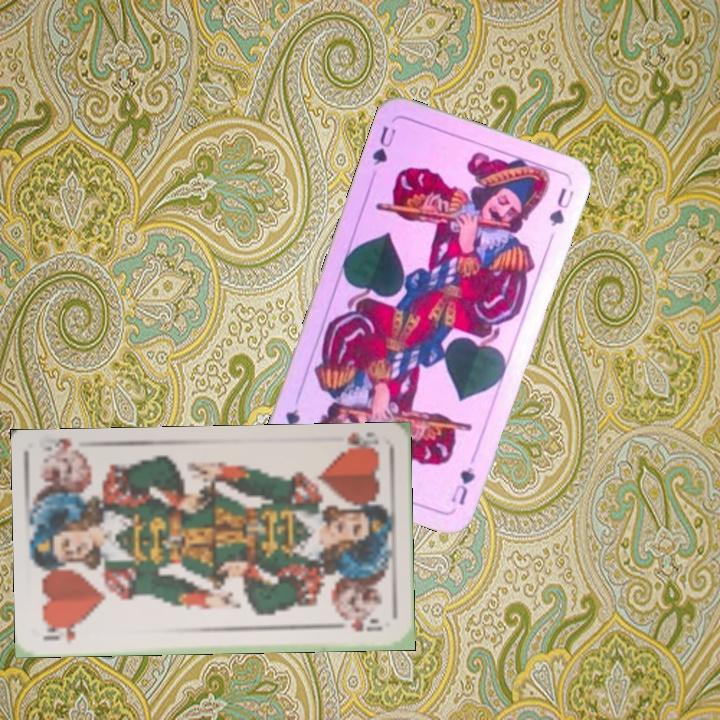GU: (368, 122, 399, 168), (447, 463, 478, 508)
HO: (331, 430, 382, 457), (39, 621, 78, 646)
